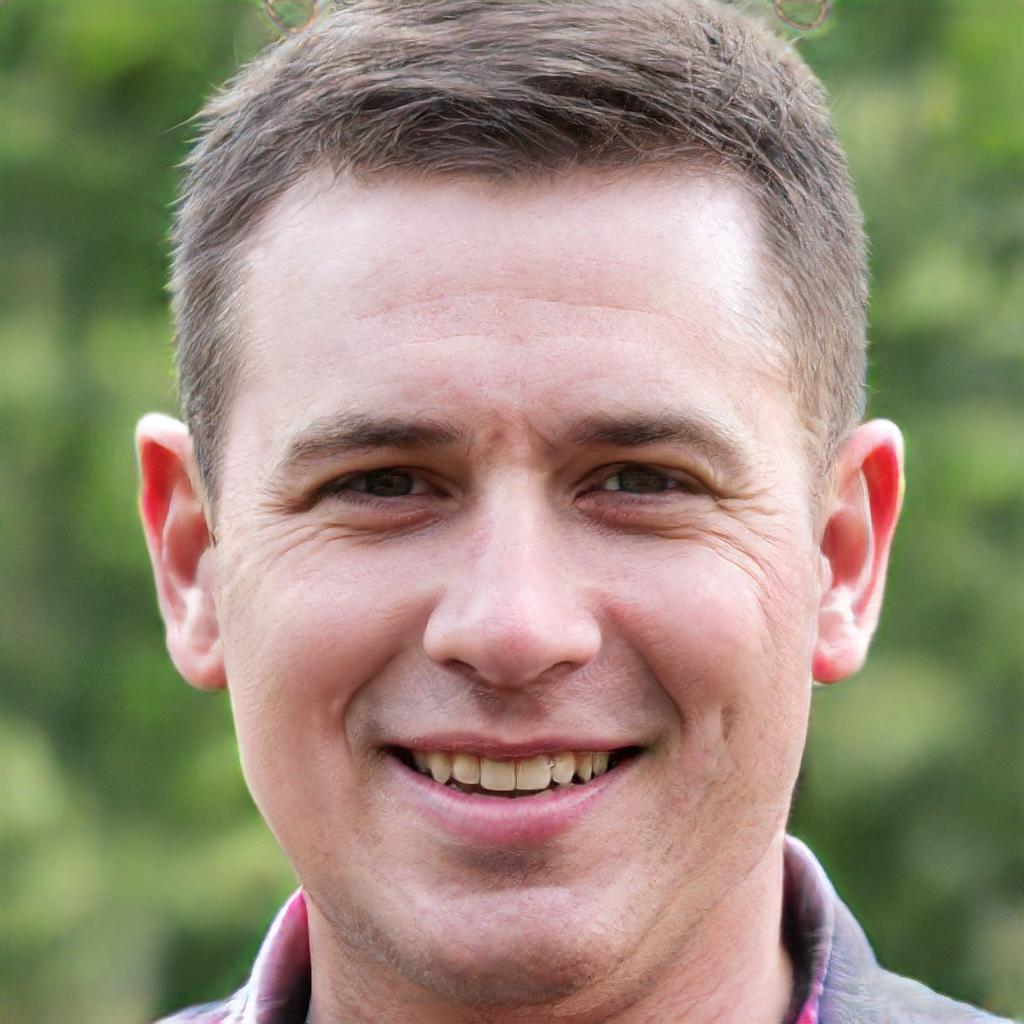face: (223, 179, 814, 1007)
